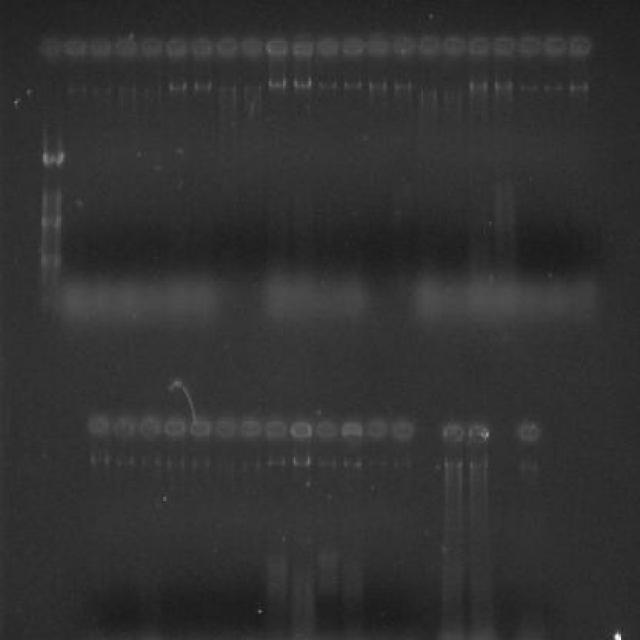L: (79, 407, 548, 450), (33, 31, 596, 64)
M: (31, 120, 68, 306)
P: (39, 146, 64, 169), (36, 249, 62, 271), (37, 212, 63, 232), (38, 188, 64, 201)
Pc: (238, 412, 262, 442), (390, 414, 415, 442), (264, 414, 287, 443), (112, 412, 134, 442), (138, 412, 160, 442), (36, 36, 62, 61), (62, 34, 87, 60), (440, 418, 465, 444), (466, 418, 491, 444), (516, 419, 542, 444), (162, 412, 186, 439), (212, 412, 235, 440), (88, 34, 112, 60), (86, 412, 109, 439), (366, 34, 391, 58), (165, 34, 188, 60), (516, 34, 542, 57), (338, 418, 362, 442), (191, 35, 214, 60), (543, 33, 566, 58), (366, 415, 389, 440), (566, 35, 592, 57), (440, 35, 466, 57), (290, 418, 312, 444), (314, 417, 336, 443), (140, 34, 163, 58), (239, 35, 264, 57), (466, 34, 491, 56), (417, 34, 440, 57), (392, 34, 414, 58), (492, 35, 516, 57), (114, 35, 137, 57), (216, 36, 238, 59), (188, 417, 210, 440), (266, 35, 288, 57), (290, 36, 312, 58), (316, 36, 338, 58), (342, 35, 364, 57)
